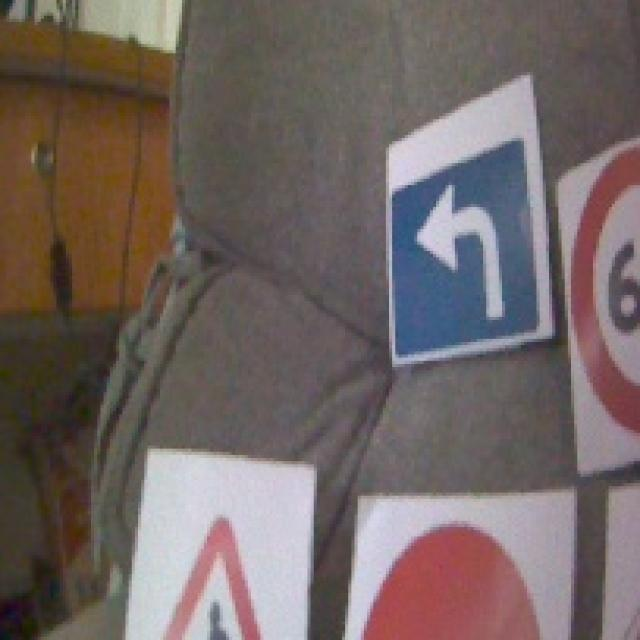DoNotEnterSign: (351, 521, 549, 640)
